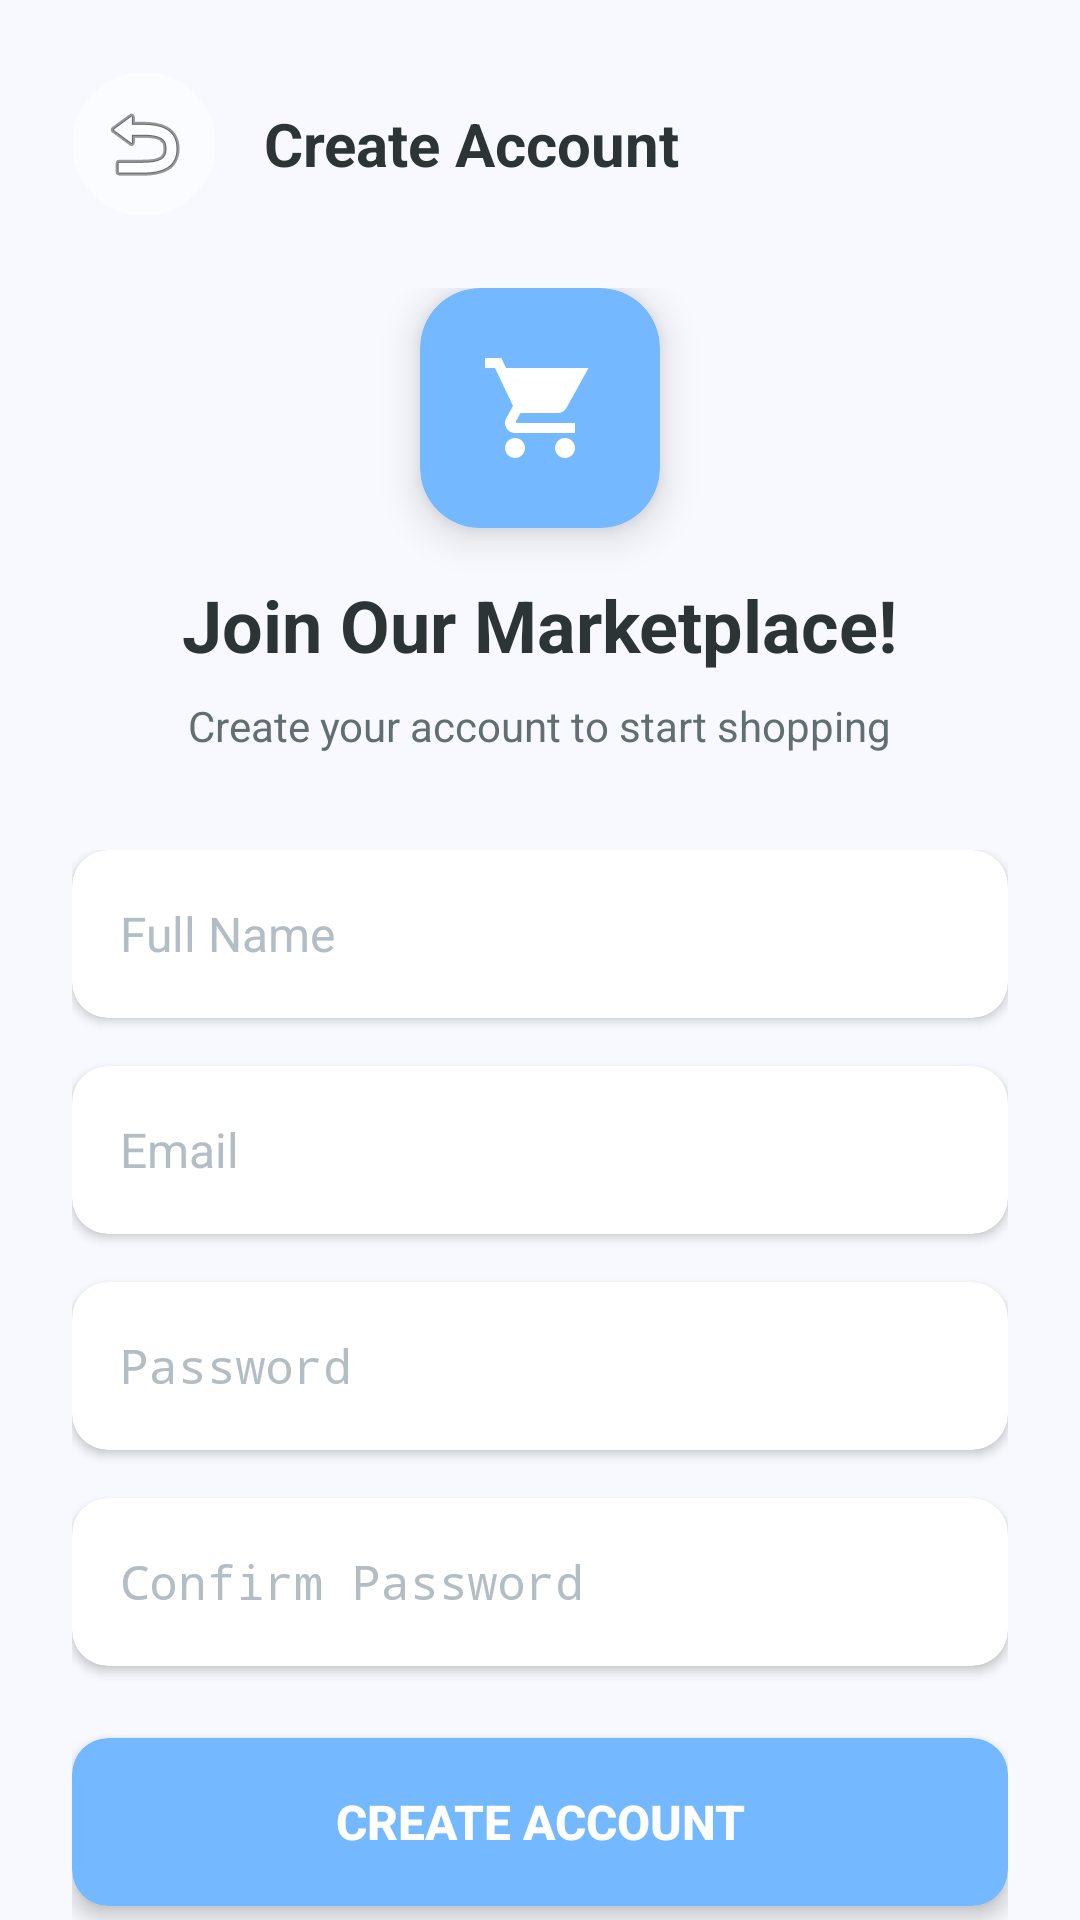

Icons on this 1080x1920 Android screen, each with the point to tap as point (x, y):
Back: point (145, 144)
shopping cart: point (537, 408)
